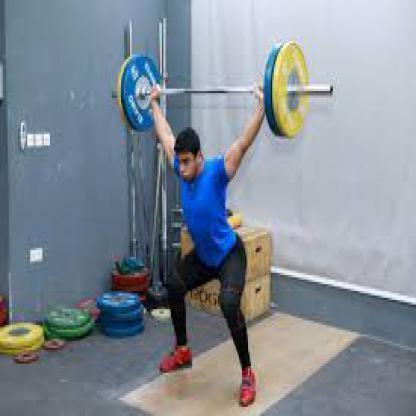barbell: (110, 40, 336, 141)
